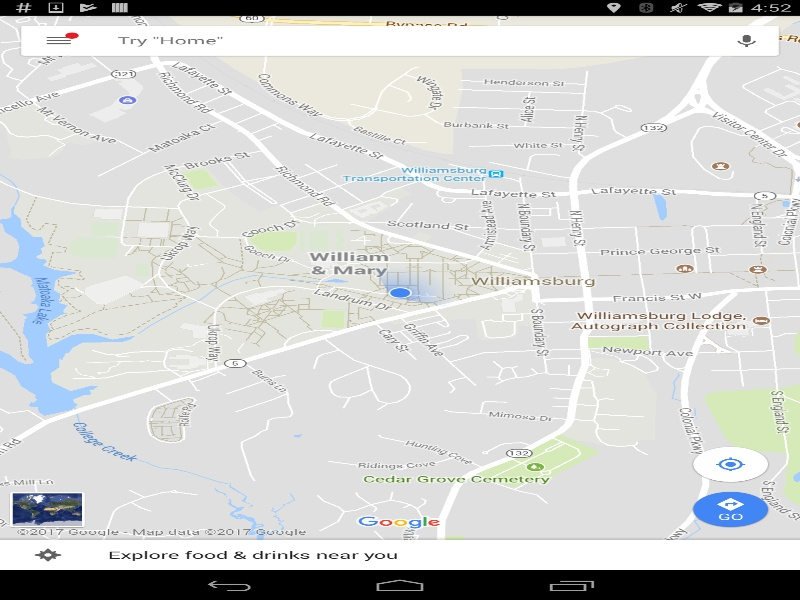Button: (12, 493, 82, 525), (714, 25, 778, 55)
Input: (117, 25, 730, 55)
